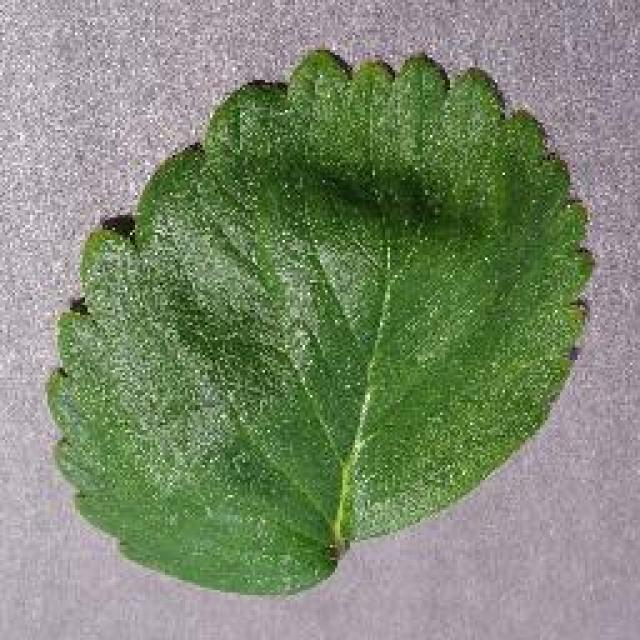Strawberry___healthy: (35, 25, 605, 613)
